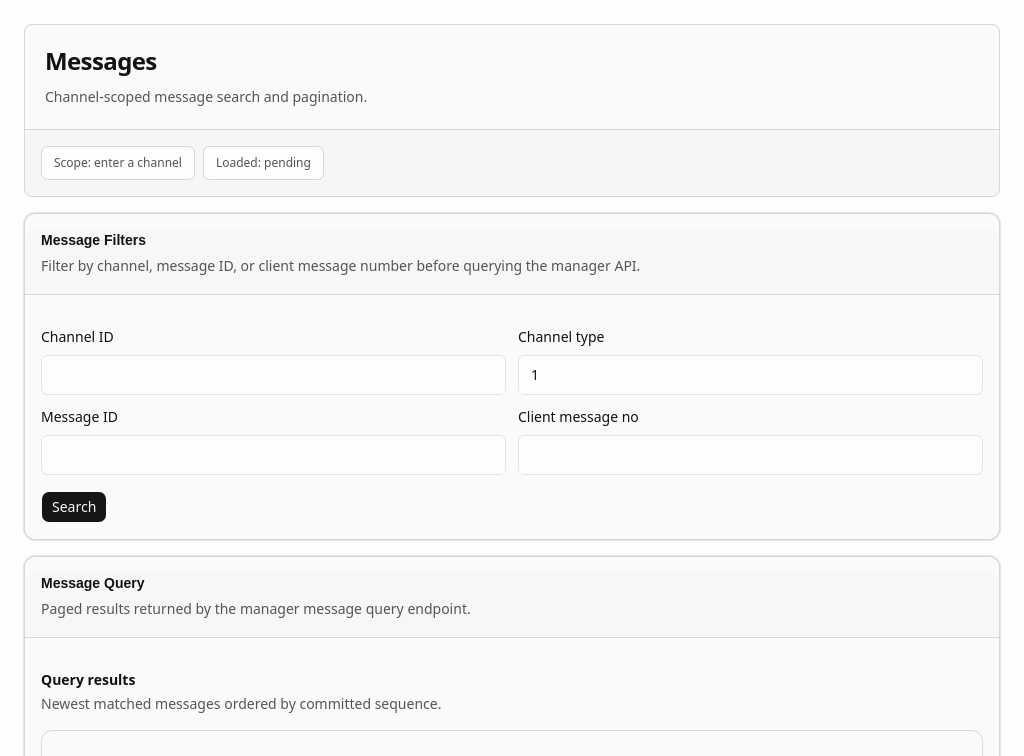
Scenario: submits a message query and renders rows
In the field labelled "Channel ID": {"x": 274, "y": 375} [41,355,506,395], type "room-1"
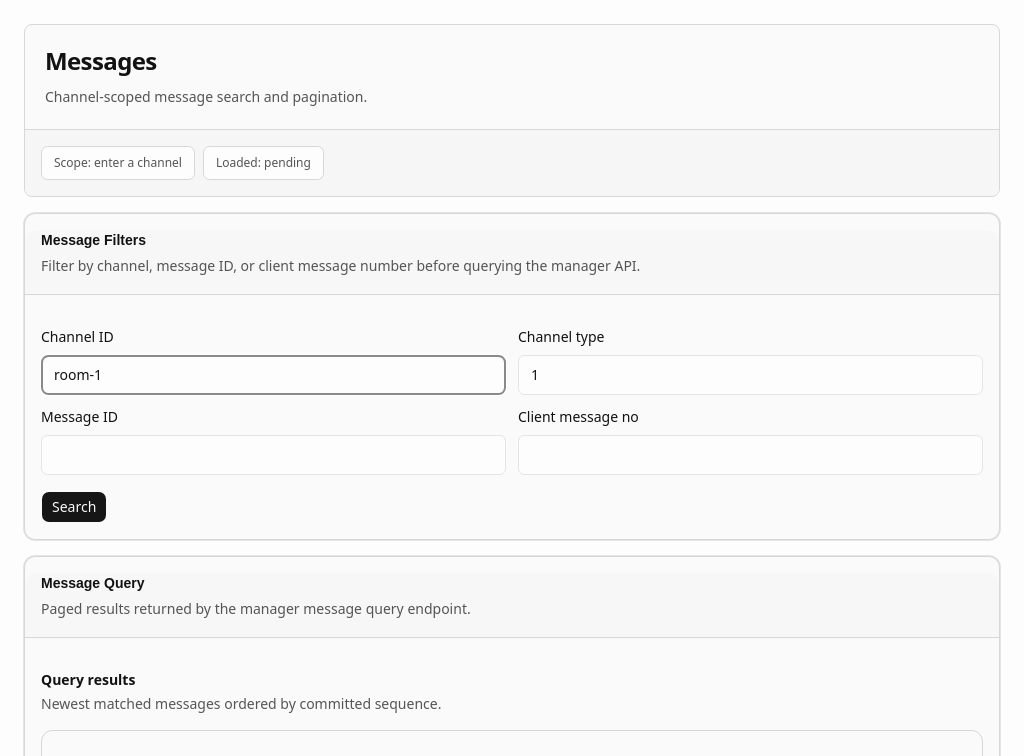
Replace the text in the number field labelled "Channel type" with "2": {"x": 750, "y": 375} [518,355,983,395]
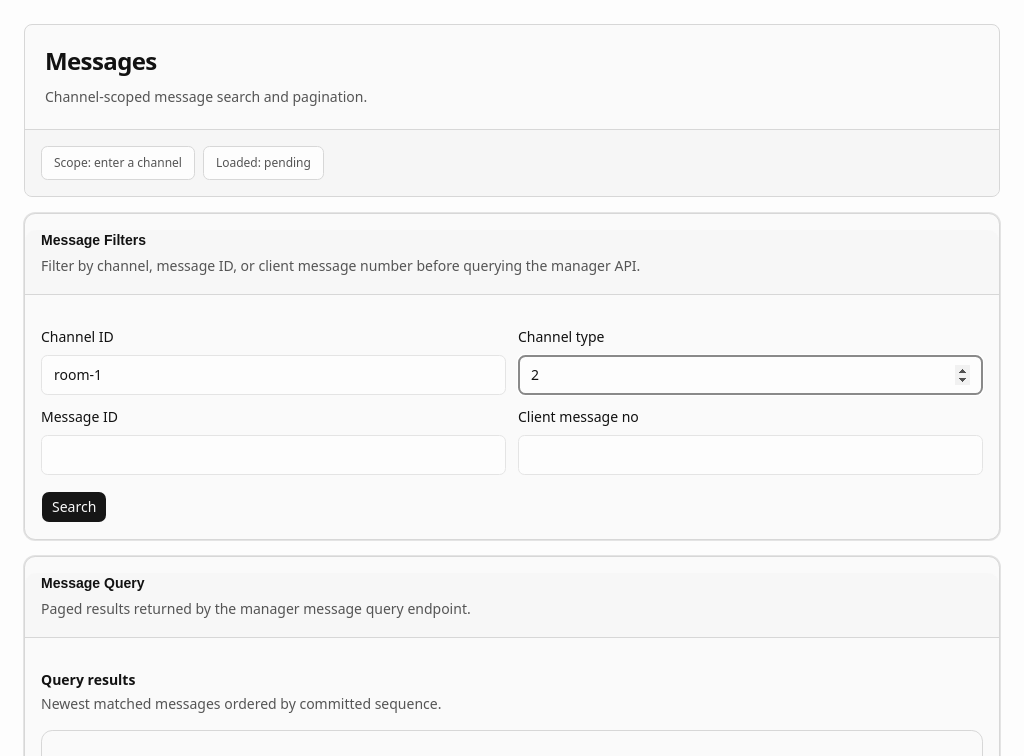
Click the button "Search": {"x": 74, "y": 507} [41,491,107,523]
(page scrolled)
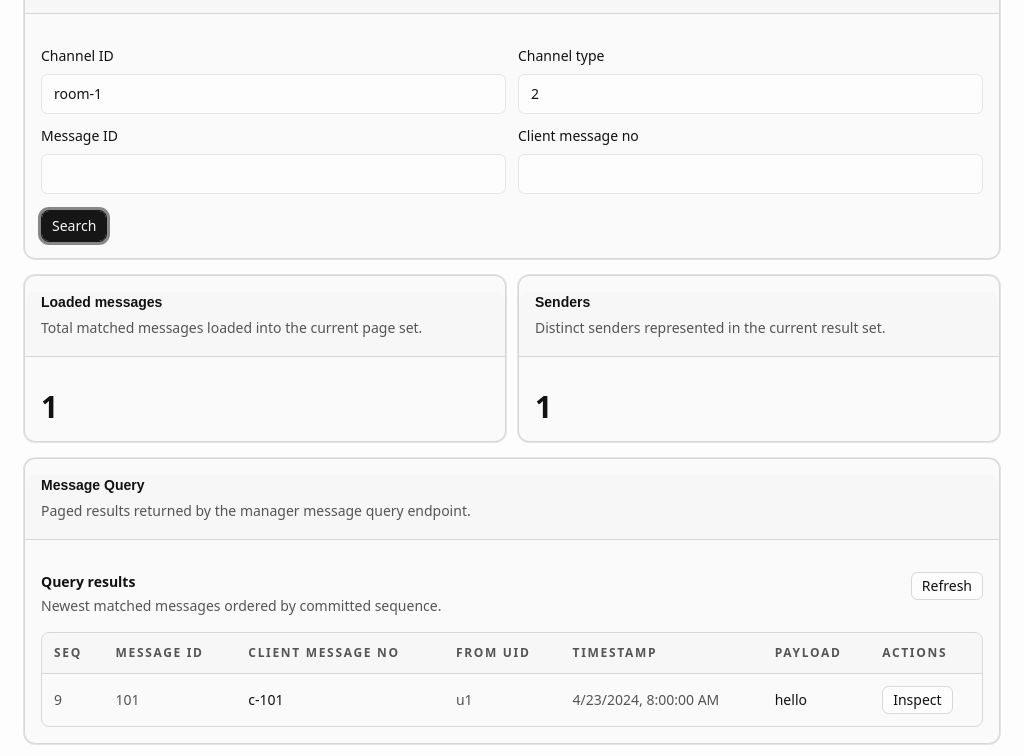
Result: the text "c-101" is shown at [236,674,444,726]
Result: the text "hello" is shown at [763,674,870,726]
